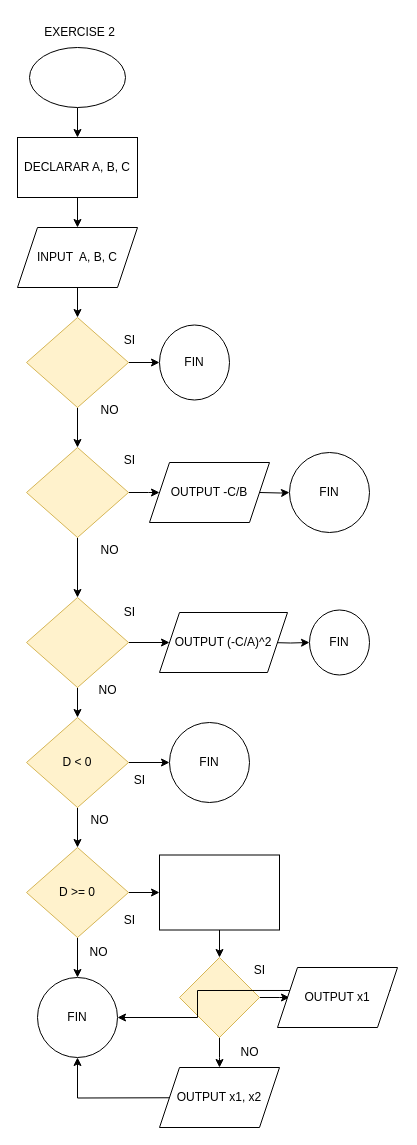
Image size: 417x1145. Some labels were removed from this diagram. The box of each missing label's shape, as (x1, y1, x2, y2) in pixels:
A==0: (26, 446, 128, 538)
A==0 y B==0: (26, 316, 128, 408)
B==0: (26, 596, 128, 688)
INICIO: (28, 46, 126, 108)
x1= (-B+D^2) / (2*A) x2= (-B-D^2) / (2*A): (158, 854, 280, 930)
x1==x2: (178, 956, 260, 1038)
